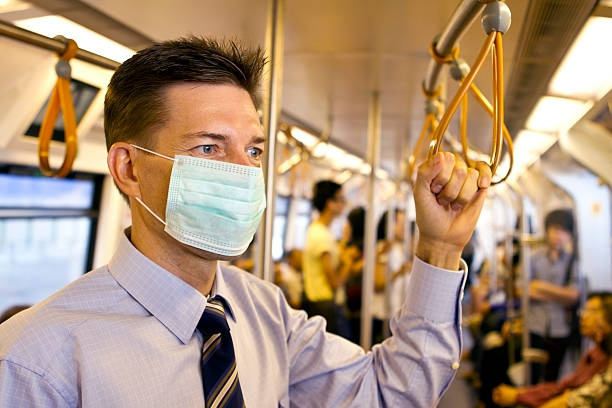mask: (171, 163, 267, 259)
